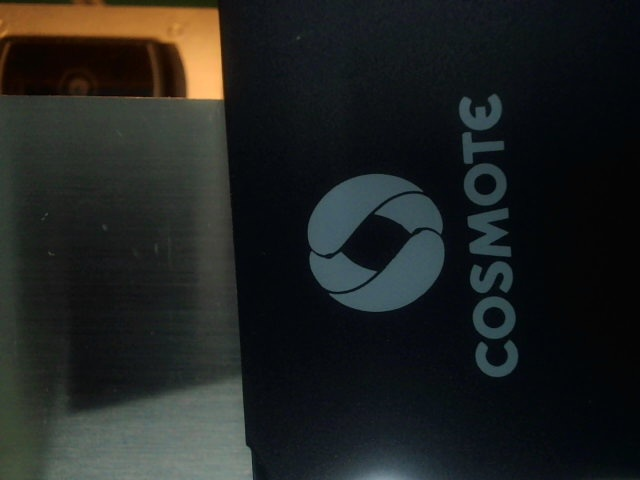AU_COSMOTE: (271, 58, 555, 386)
